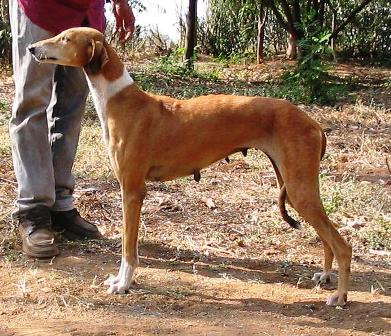dog: (28, 27, 355, 306)
